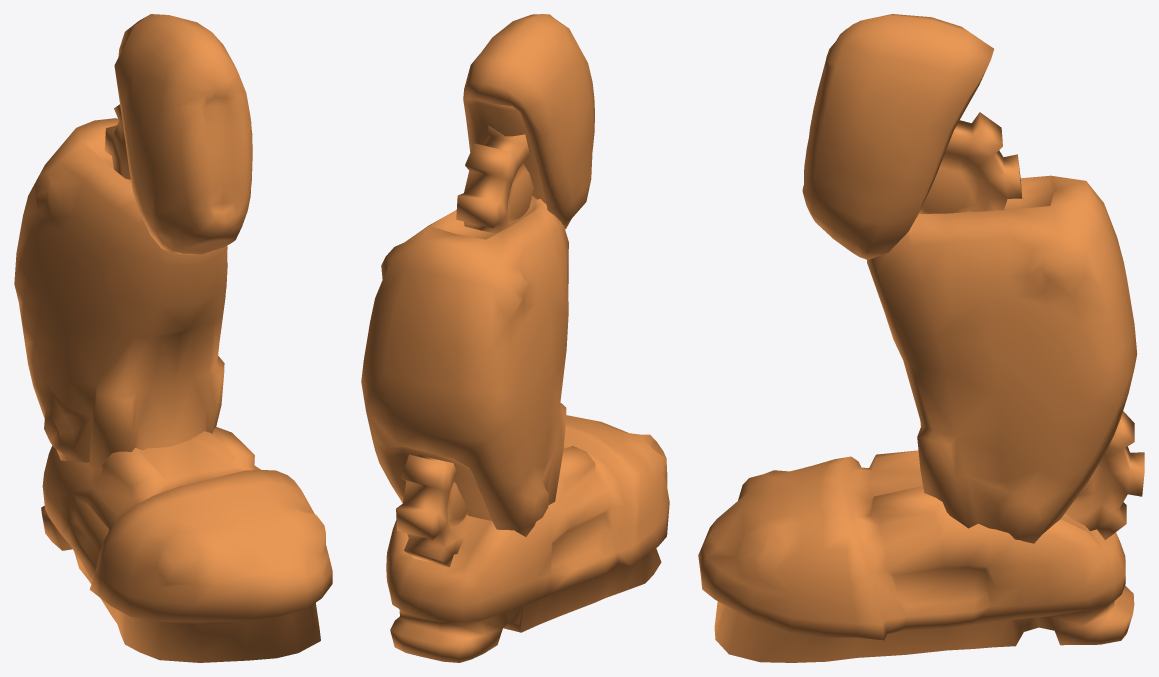
The model's file is bruiser_p1.fbx.
The picture shows the model from 3 angles, left to right: view 1: azimuth 30°, elevation 25°; view 2: azimuth 150°, elevation 25°; view 3: azimuth 270°, elevation 25°; orthographic projection. The views are drawn at different scales.
Visible parts, largest first — view 1: Body.007; view 2: Body.007; view 3: Body.007.
Boxes of the visible parts, x1,y1,x2,y2 form: Body.007: (14,14,332,662); Body.007: (361,14,669,662); Body.007: (698,14,1144,662).
Bounding box in the file's own units: 75.24 × 203 × 134.
